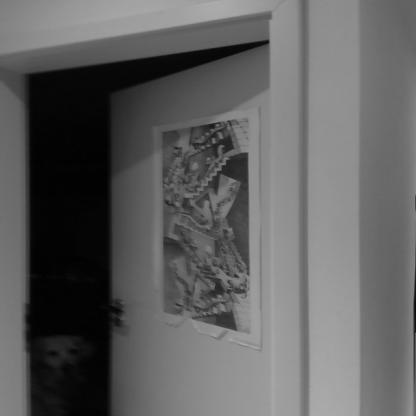semi: (0, 0, 314, 416)
